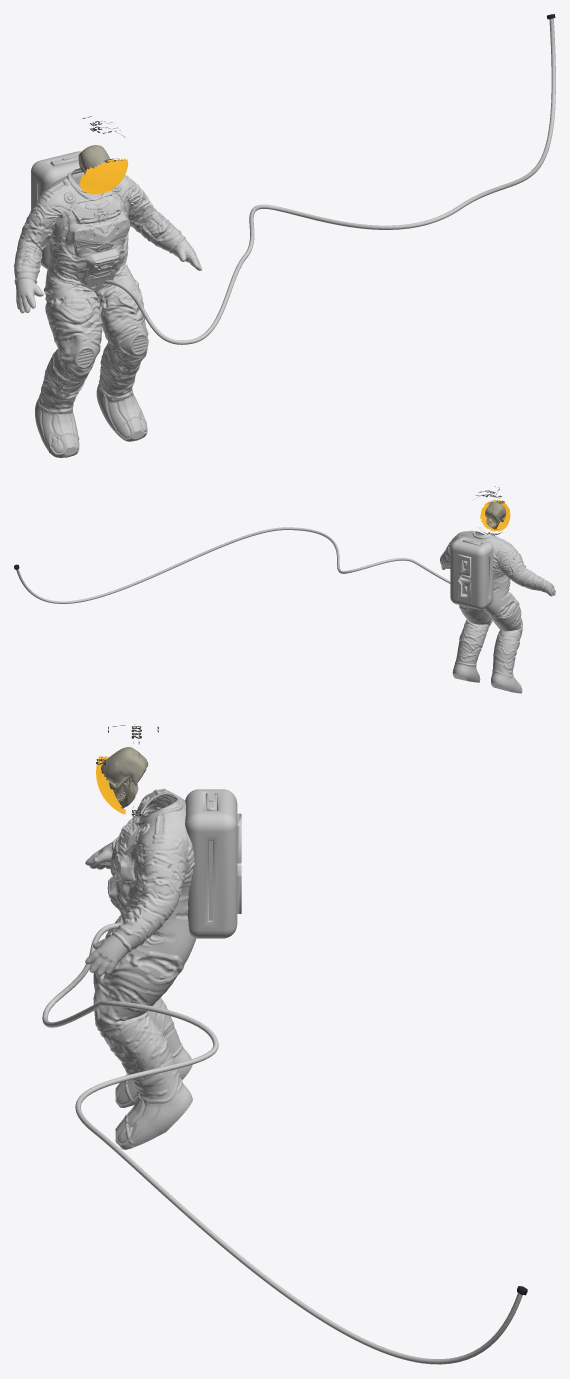
Rendered from Space_Suit_V2_edited_SKETCHFAB.fbx.
The picture shows the model from 3 angles, top to bottom: view 1: azimuth 30°, elevation 25°; view 2: azimuth 150°, elevation 25°; view 3: azimuth 270°, elevation 25°; orthographic projection. The views are drawn at different scales.
Visible parts, largest first — view 1: Astronaut_Body, Rope, Backpack, GLASS, Skull; view 2: Astronaut_Body, Backpack, Rope, Skull, GLASS; view 3: Astronaut_Body, Backpack, Rope, Skull.
Part boxes in pixels (bbox=[...]): Astronaut_Body: bbox=[14, 168, 201, 457]; Rope: bbox=[104, 18, 555, 344]; Backpack: bbox=[31, 151, 84, 269]; GLASS: bbox=[79, 158, 128, 194]; Skull: bbox=[78, 145, 109, 174]; Astronaut_Body: bbox=[440, 530, 555, 693]; Backpack: bbox=[450, 536, 493, 609]; Rope: bbox=[16, 527, 450, 603]; Skull: bbox=[485, 502, 506, 529]; GLASS: bbox=[480, 500, 510, 531]; Astronaut_Body: bbox=[85, 788, 196, 1149]; Backpack: bbox=[185, 789, 241, 938]; Rope: bbox=[42, 923, 522, 1364]; Skull: bbox=[101, 747, 148, 808].
Size of the model in its own units: 429 by 186 by 207.
5 materials, 1 textured.
